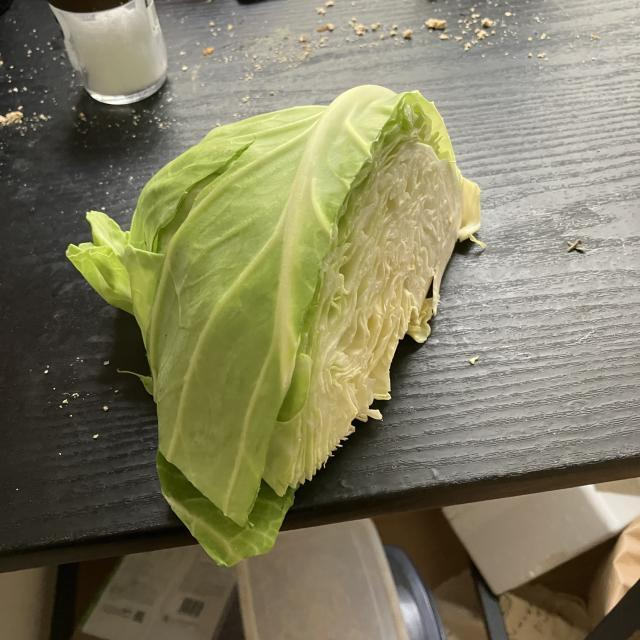cabbage: (67, 84, 484, 568)
